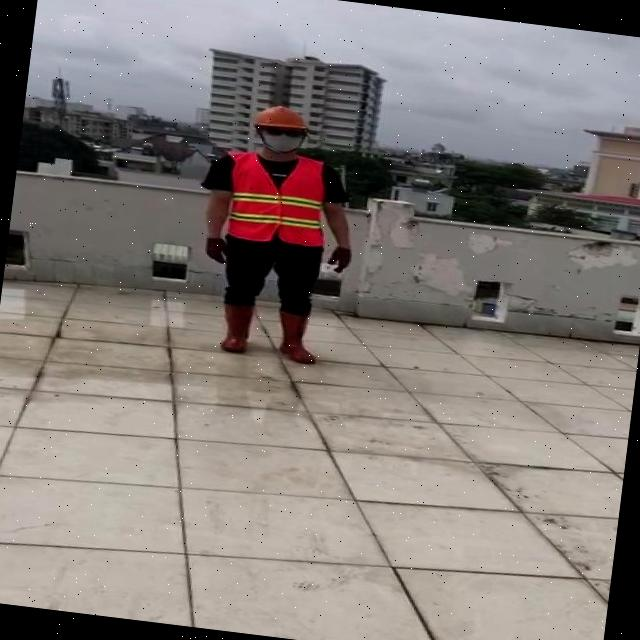boots: (270, 310, 319, 366), (214, 299, 258, 355)
helmet: (176, 94, 382, 370), (244, 100, 311, 132)
vest: (220, 148, 332, 250)
